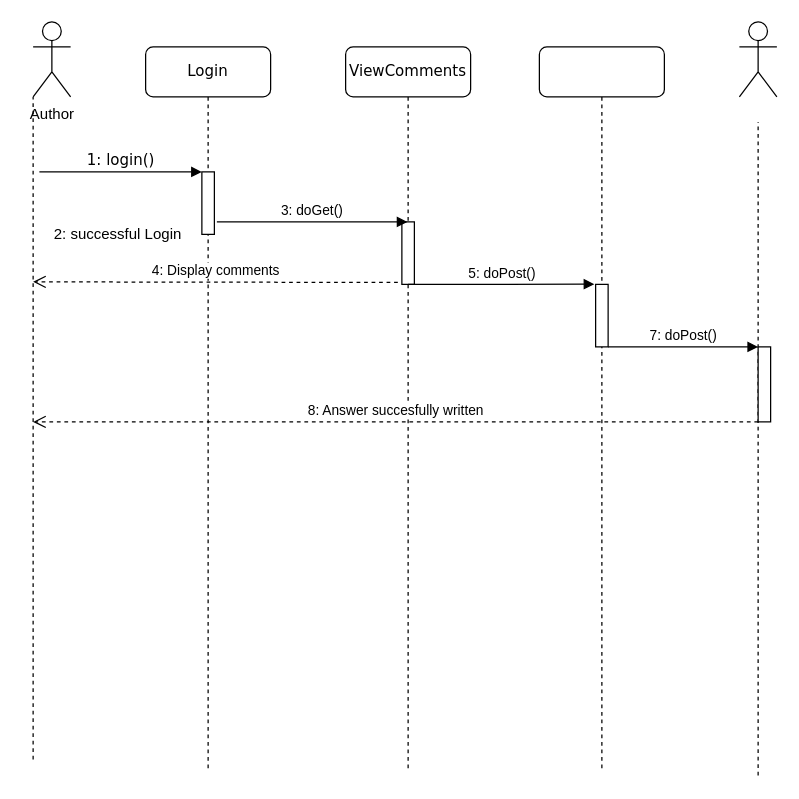
The diagram is 799 pixels wide and 799 high, and some of its shapes have lost their labels. The box of each missing label's shape, as (x1, y1, x2, y2) in pixels:
AnswerComments: (538, 46, 664, 772)
User: (738, 21, 777, 97)
